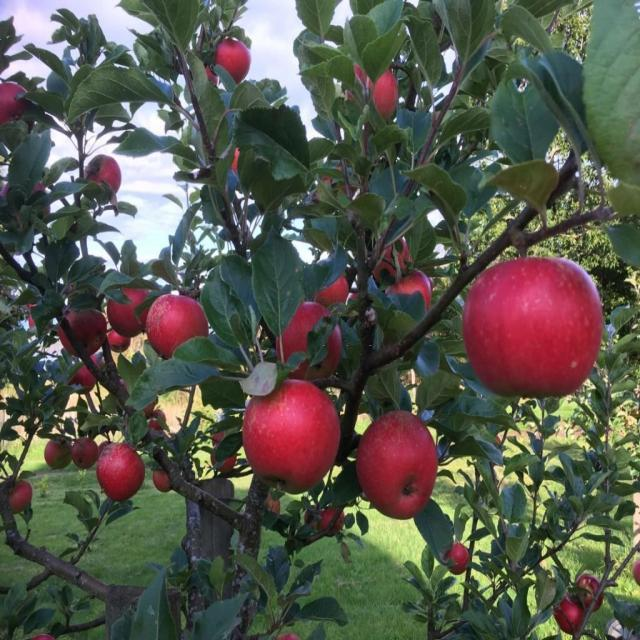Red Apple: (468, 265, 603, 395), (248, 383, 346, 484), (365, 415, 441, 518), (286, 312, 342, 378), (151, 297, 201, 354), (102, 443, 147, 501), (66, 310, 106, 355), (111, 293, 149, 336), (218, 38, 250, 84), (364, 72, 400, 111), (397, 273, 431, 313), (90, 153, 121, 195), (1, 83, 29, 121), (381, 242, 409, 276), (321, 277, 351, 307), (209, 447, 242, 472), (559, 597, 583, 631), (581, 573, 603, 609), (48, 440, 72, 468), (10, 484, 33, 512), (322, 174, 349, 197), (226, 143, 247, 172), (450, 545, 471, 571), (75, 442, 97, 466), (260, 493, 285, 513), (78, 367, 97, 389), (326, 513, 344, 534), (153, 471, 171, 491), (113, 332, 129, 353), (31, 629, 59, 640), (212, 432, 228, 447), (281, 627, 298, 640), (148, 420, 164, 433), (633, 557, 640, 585)
